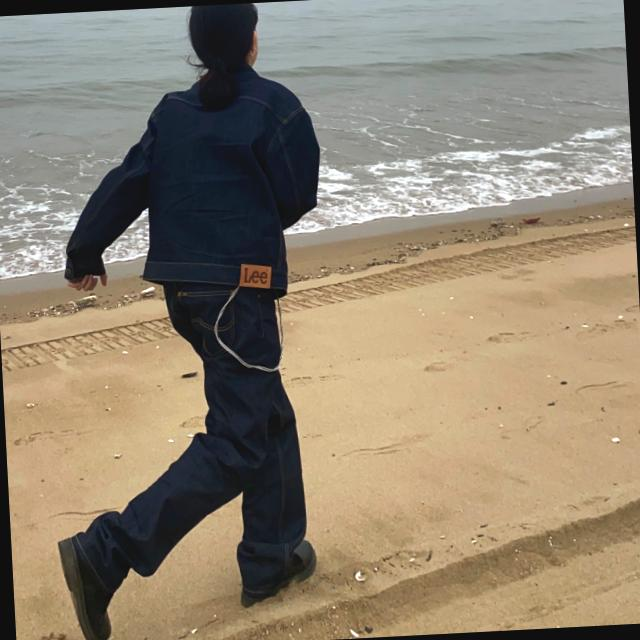denimpants: (61, 270, 310, 606)
jacket: (54, 58, 327, 308)
